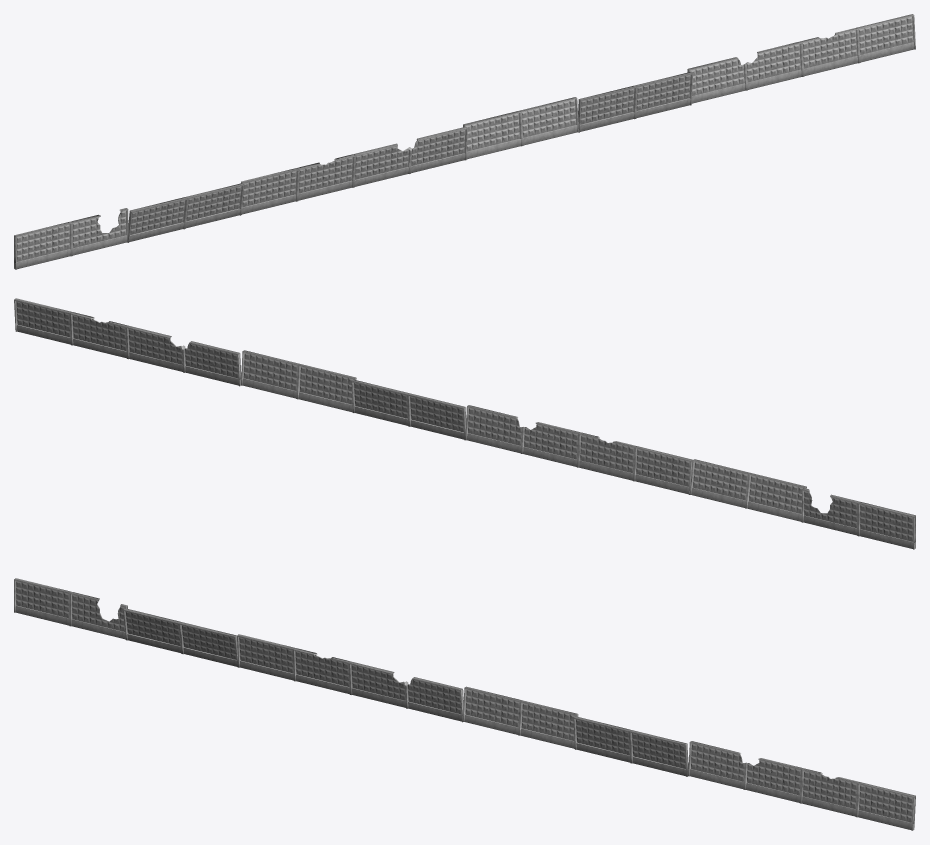
Rendered from FenceConcrete1_9.FBX.
The picture shows the model from 3 angles, top to bottom: view 1: azimuth 30°, elevation 25°; view 2: azimuth 150°, elevation 25°; view 3: azimuth 330°, elevation 25°; orthographic projection.
Visible parts, largest first — view 1: FenceConcrete1; view 2: FenceConcrete1; view 3: FenceConcrete1.
Part boxes in pixels (x1,y1,x2,y2): FenceConcrete1: (14, 14, 915, 269); FenceConcrete1: (14, 298, 915, 549); FenceConcrete1: (14, 578, 915, 830).
Bounding box in the file's own units: 2520 × 90.26 × 36.62.
